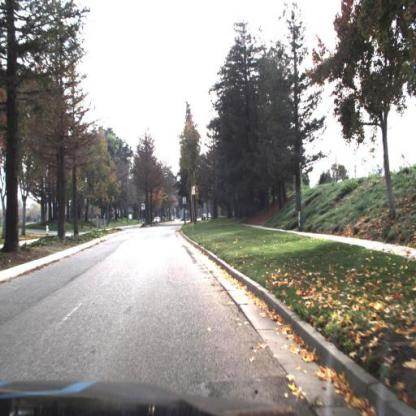car: (154, 217, 162, 224)
